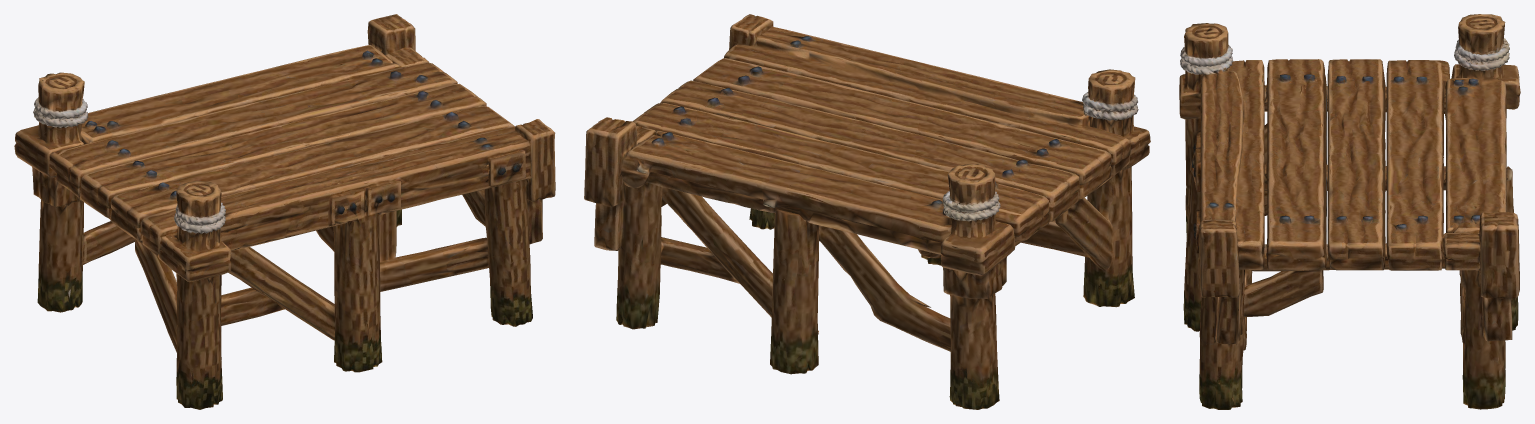
Rendered from wooden_dock_optimized.glb.
3 renders of one model, left to right at view 1: azimuth 30°, elevation 25°; view 2: azimuth 150°, elevation 25°; view 3: azimuth 270°, elevation 25°, orthographic. The views are drawn at different scales.
Bounding box in the file's own units: 1.9 × 1.03 × 1.44.
1 material, 1 textured.
